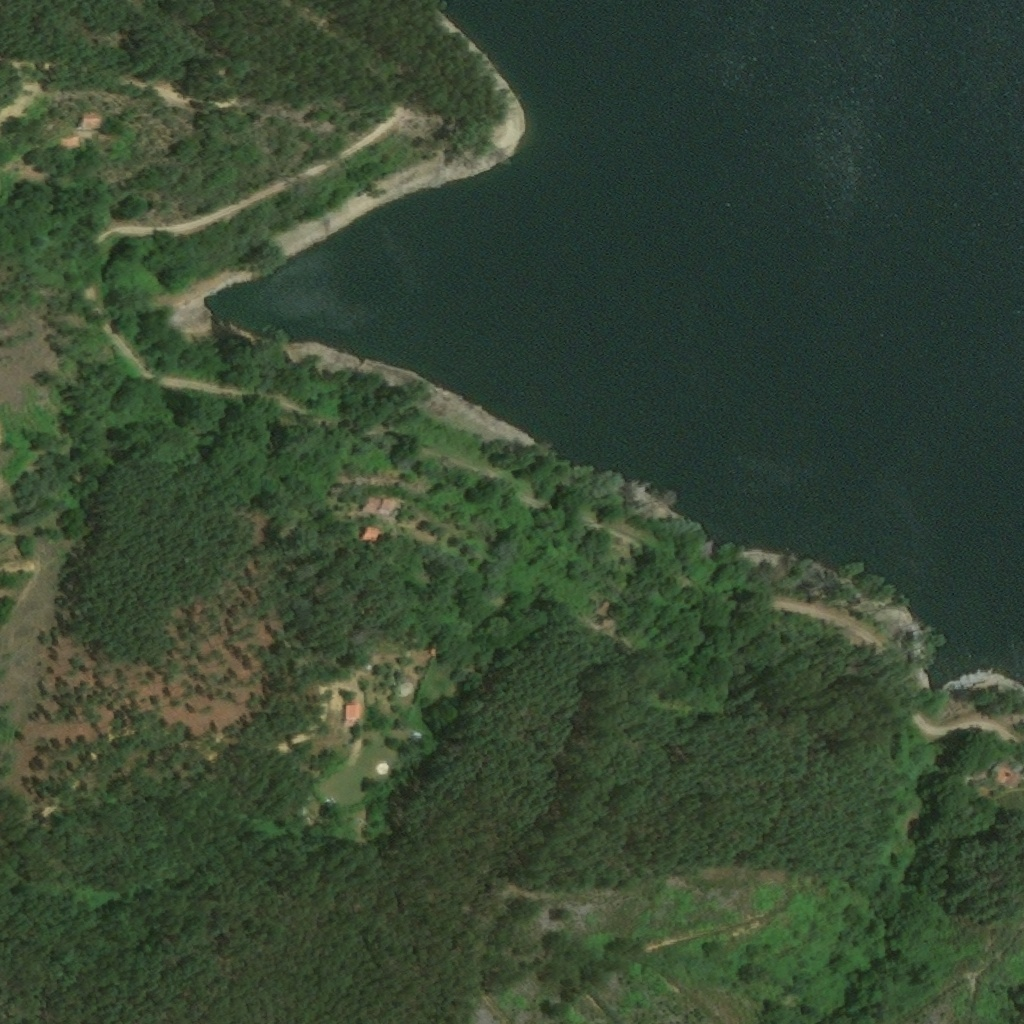0 no-damage: (356, 495, 392, 519), (342, 694, 359, 730), (394, 671, 422, 690), (80, 115, 101, 130), (357, 529, 376, 545), (426, 642, 444, 657), (60, 137, 79, 149)
